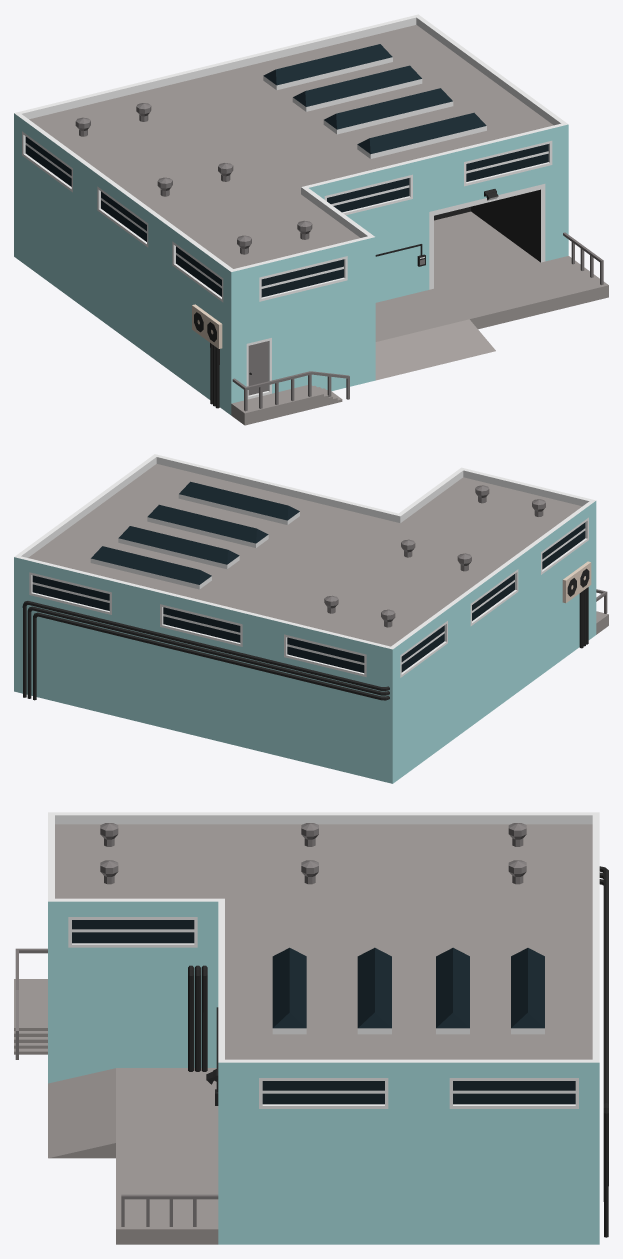
Rendered from industry-warehouse.glb.
3 views of the same model, one above another, from view 1: azimuth 30°, elevation 25°; view 2: azimuth 150°, elevation 25°; view 3: azimuth 270°, elevation 25° (orthographic). The views are drawn at different scales.
Visible parts, largest first — view 1: industry-warehouse; view 2: industry-warehouse; view 3: industry-warehouse.
Part boxes in pixels (box(x1,y1,x2,y2)): industry-warehouse: box(14, 14, 608, 425); industry-warehouse: box(14, 454, 608, 783); industry-warehouse: box(14, 812, 608, 1244).
Bounding box in the file's own units: 17.55 × 6.3 × 17.48.
Materials: 1 (1 with a texture image).
